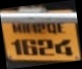character: (53, 37, 73, 57), (36, 38, 55, 56), (21, 38, 38, 56), (10, 38, 22, 55)
